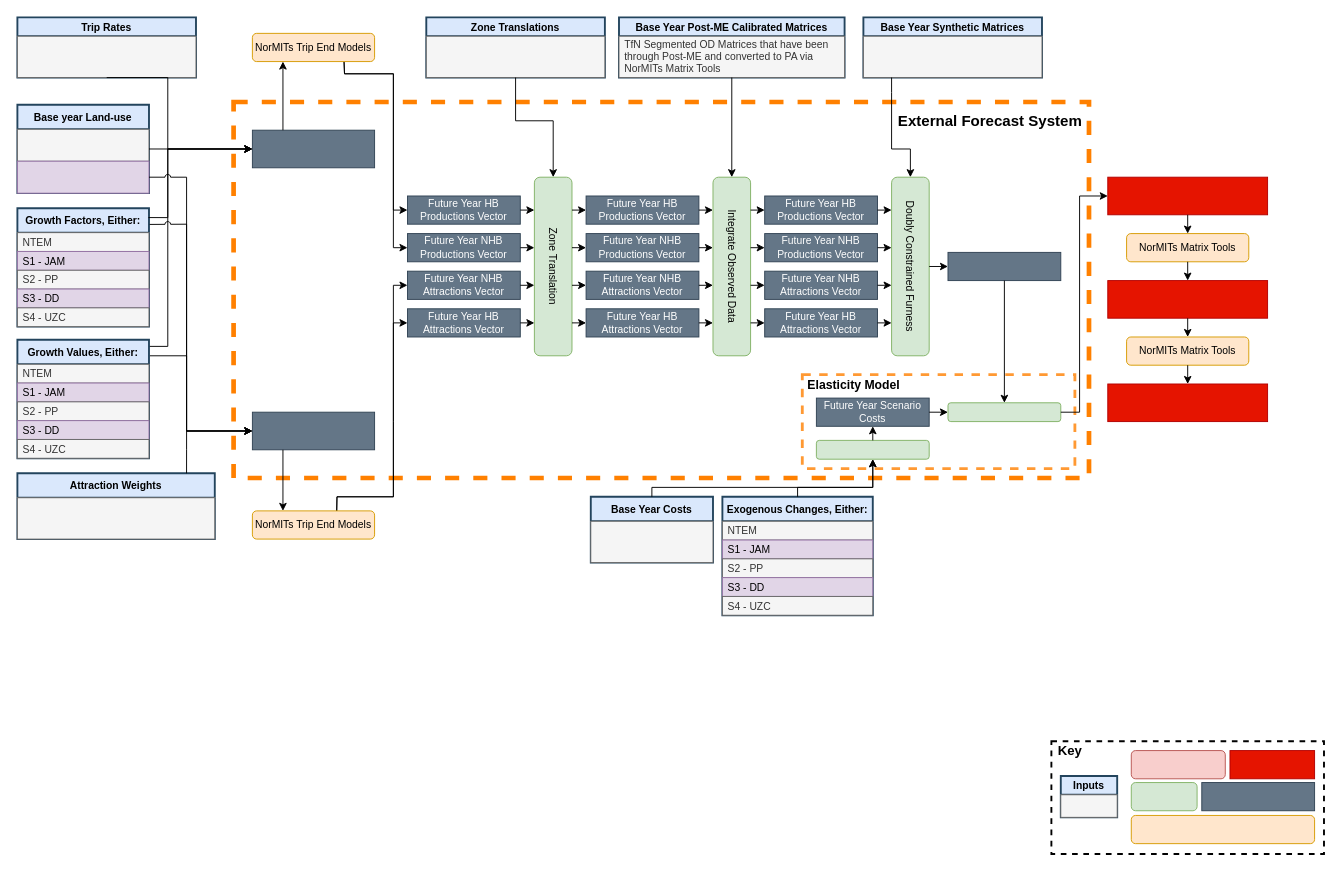
Image size: 1340x870. Some labels were removed from this diagram. The centre of each missing label's shape, as x and y in pixels:
"By NTEM Purpose / Employment Category (Same across all future years)" goes at pixel 115 518.
"Cost Building" goes at pixel 872 449.
"Different depending on the mode (What format are these in?)" goes at pixel 651 541.
"Employment/Attraction Data" goes at pixel 313 430.
"External NorMITs Demand Tool" goes at pixel 1222 829.
"Future Year PA Matrices" goes at pixel 1004 266.
"Input Info" goes at pixel 1088 805.
"Intermediate Output" goes at pixel 1258 796.
"Modal Adjustment" goes at pixel 1004 412.
"MSOA -> LAD MSOA -> NoHAM / NoRMS" goes at pixel 515 56.
"Optional Process" goes at pixel 1177 764.
"Output Matrix" goes at pixel 1272 764.
"Population/Production Data" goes at pixel 313 148.
"Process" goes at pixel 1163 796.
"TfN Segmented 24hr Future Year PA Matrices" goes at pixel 1187 195.
"TfN Segmented Employment at MSOA" goes at pixel 82 176.
"TfN Segmented Future Year OD Matrices - Time Period Split" goes at pixel 1187 402.
"TfN Segmented Future Year PA Matrices - Time Period Split" goes at pixel 1187 299.
"TfN Segmented PA Matrices to be used as seeds - come from TMS" goes at pixel 952 56.
"TfN Segmented Population at MSOA" goes at pixel 82 144.
"TfN Segmented Trip Rates at MSOA (Same across all future years)" goes at pixel 106 56.
